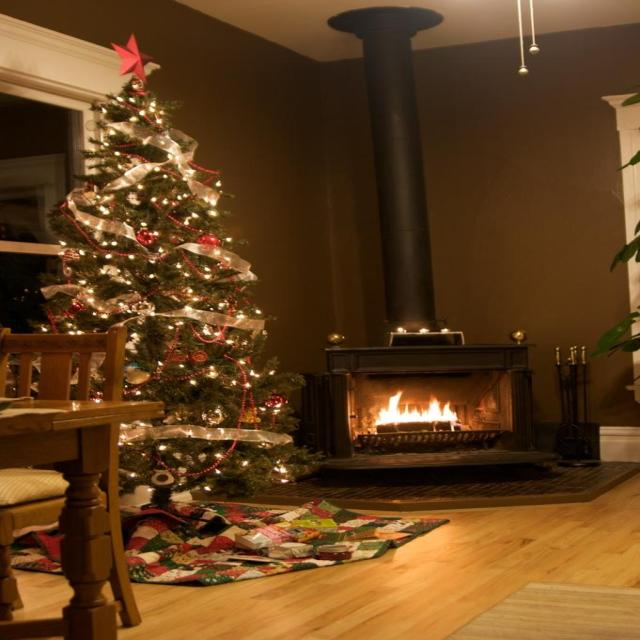Fire: (366, 388, 474, 429)
